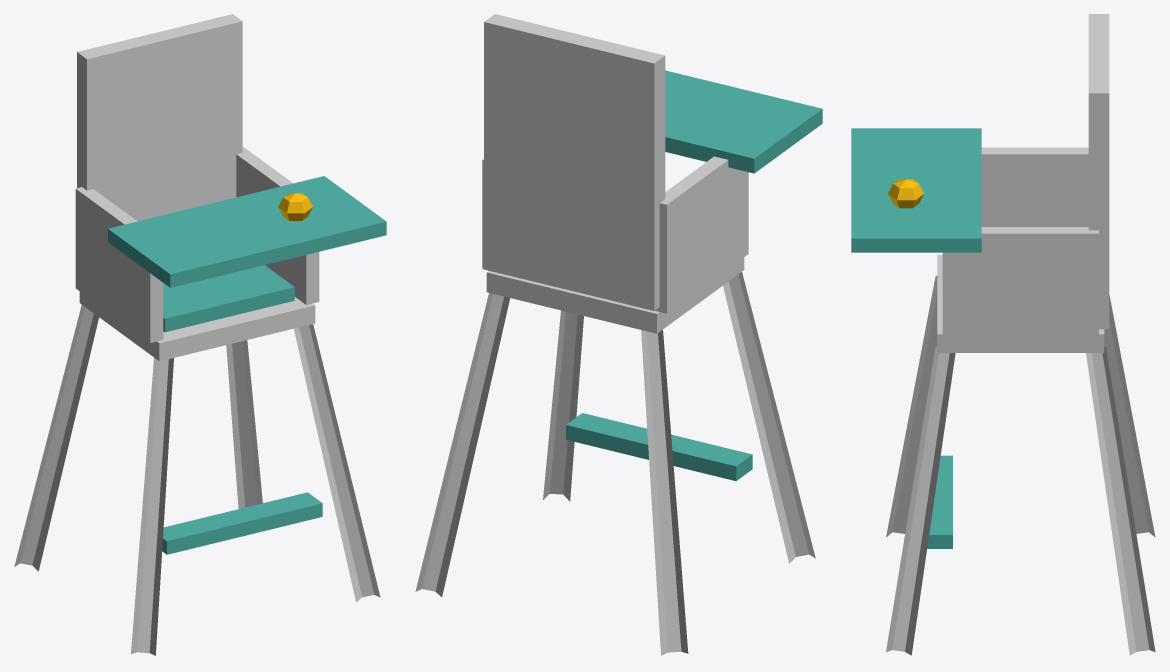
Rendered from barnstol.glb.
3 views of the same model, side by side, from view 1: azimuth 30°, elevation 25°; view 2: azimuth 150°, elevation 25°; view 3: azimuth 270°, elevation 25° (orthographic). The views are drawn at different scales.
Visible parts, largest first — view 1: barnstol; view 2: barnstol; view 3: barnstol.
Part boxes in pixels (<box>): barnstol: <box>14,14,386,655</box>; barnstol: <box>415,14,822,655</box>; barnstol: <box>851,14,1155,655</box>.
Bounding box in the file's own units: 0.5628 × 1.16 × 0.5837.
